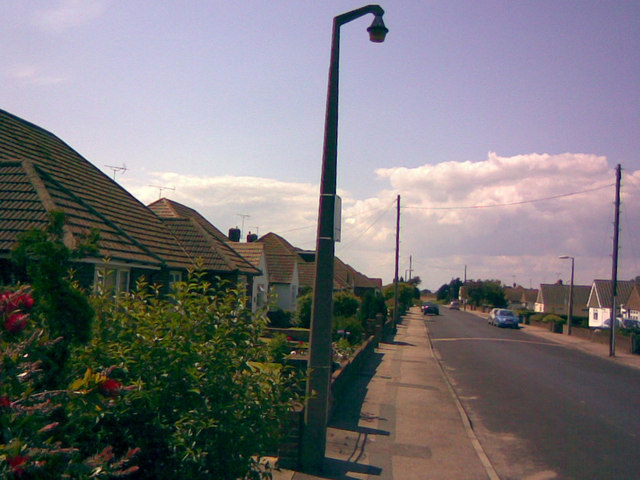light_pole: (298, 4, 391, 470), (604, 160, 624, 358), (386, 190, 402, 350), (562, 250, 576, 342)
